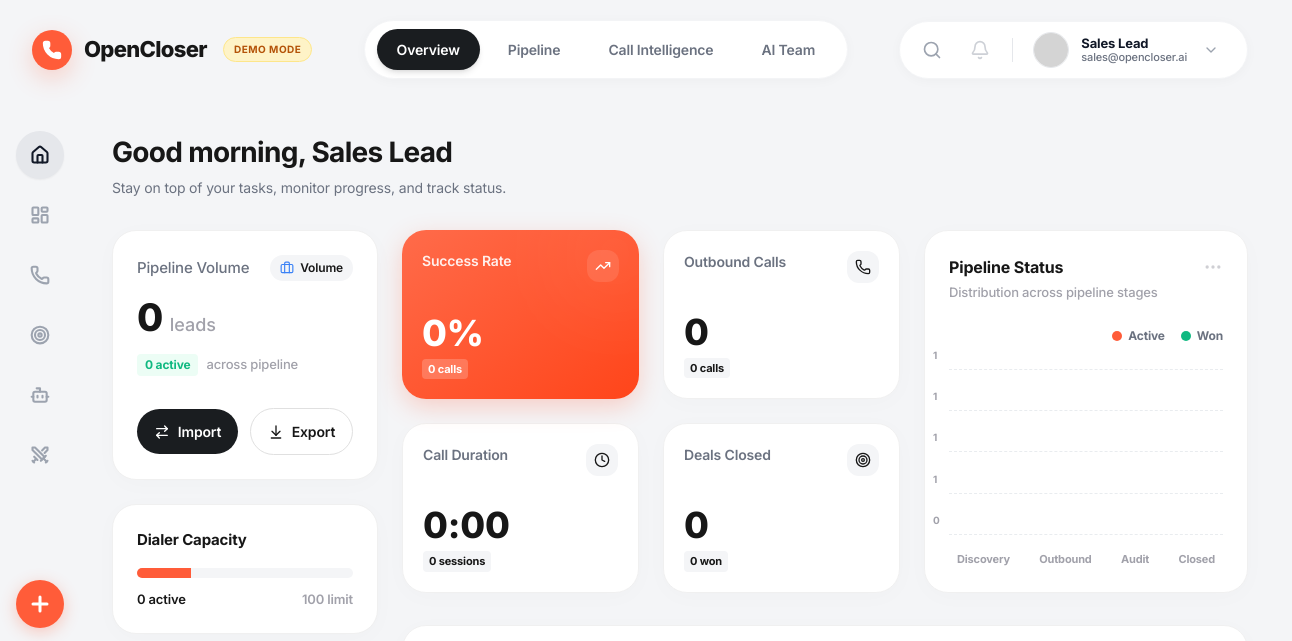
Scenario: AppShell (KanbanBoard shell extraction) › navigates to the pipeline via header nav
Check: the text "OpenCloser" is shown, box [84,33,207,66]
What coordinates should you click on to do the following:
click the button "Pipeline"
I would click on:
 (534, 50)
Its box is [488,29,580,70].
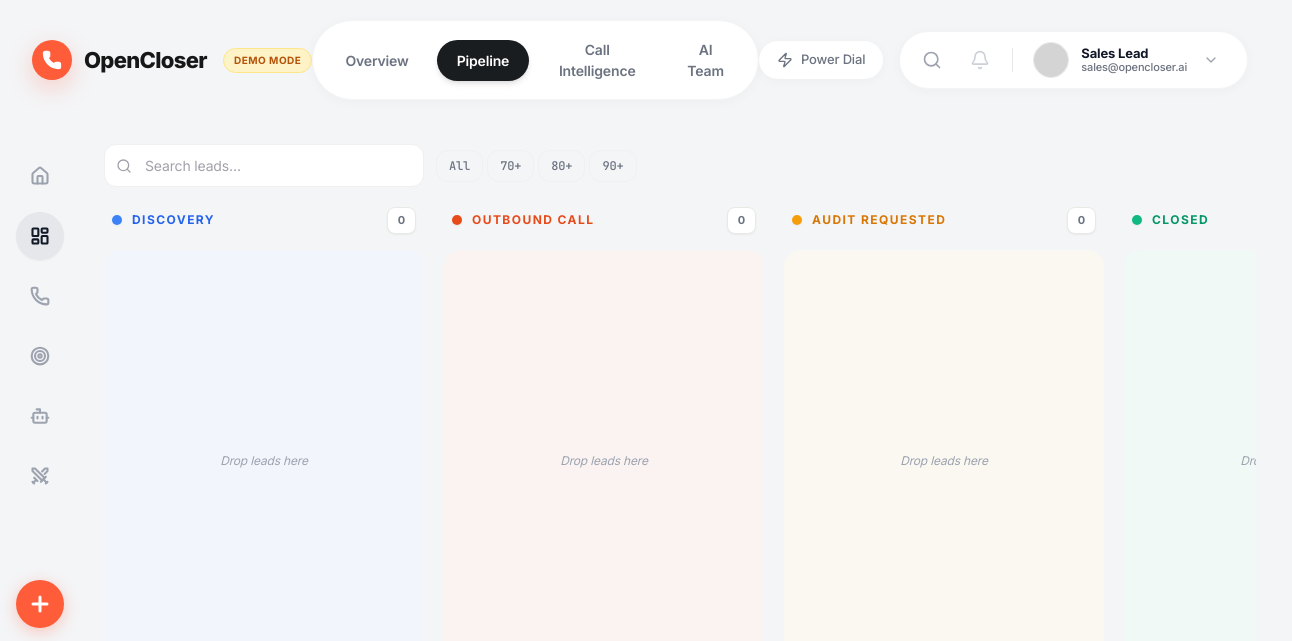
Check: the field with placeholder "Search leads…" is shown, box [104,144,424,187]
